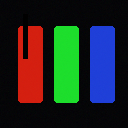4 line_v: (23, 14, 27, 58)
